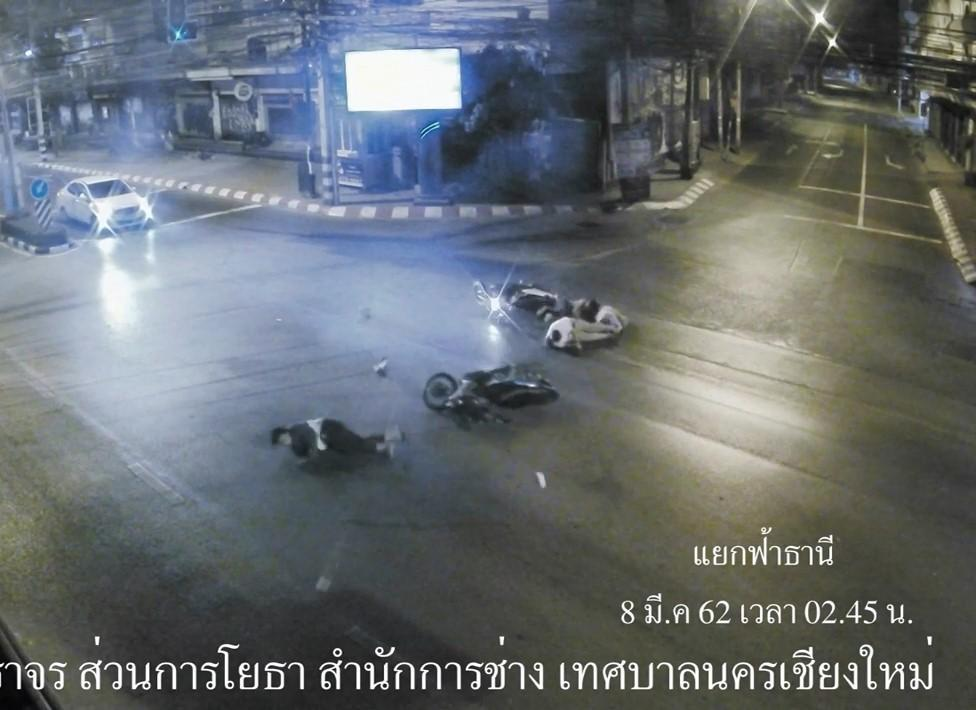accident: (268, 415, 408, 469)
